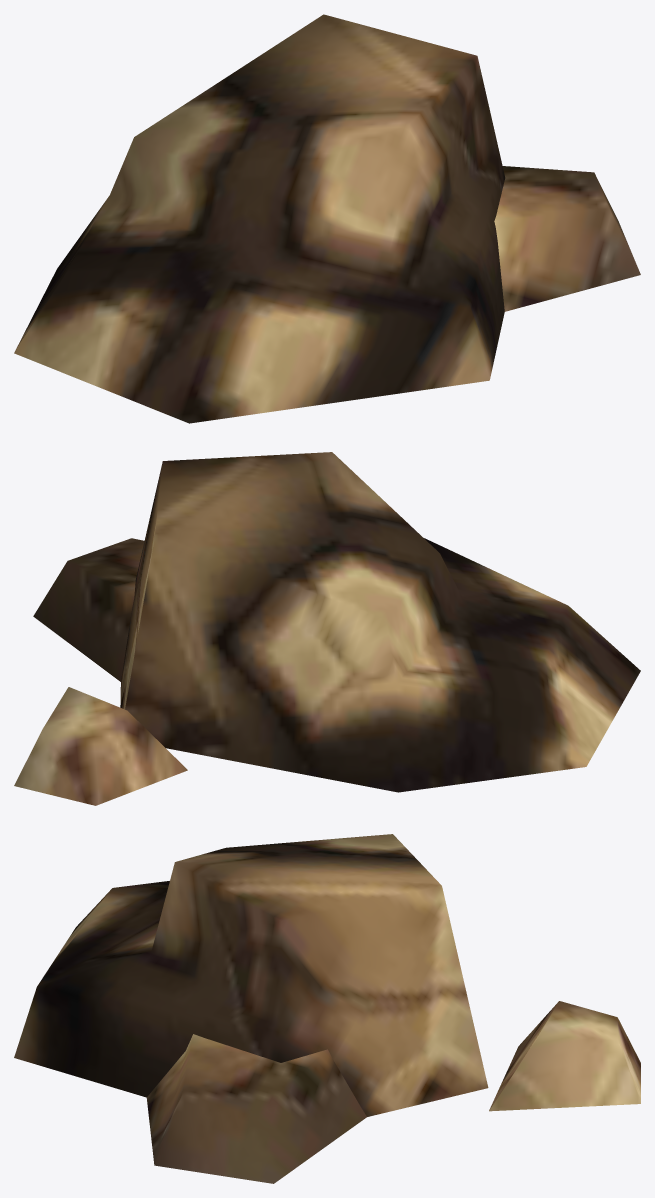
The model's file is dec_red_stone_01_4998.glb.
3 views of the same model, one above another, from view 1: azimuth 30°, elevation 25°; view 2: azimuth 150°, elevation 25°; view 3: azimuth 270°, elevation 25° (orthographic). The views are drawn at different scales.
Parts seen in each view (by area): view 1: red_stone_01_mesh; view 2: red_stone_01_mesh; view 3: red_stone_01_mesh.
Boxes of the visible parts, x1,y1,x2,y2 form: red_stone_01_mesh: [14, 14, 640, 423]; red_stone_01_mesh: [14, 452, 640, 805]; red_stone_01_mesh: [14, 834, 640, 1183].
Size of the model in its own units: 1.56 by 0.4978 by 1.44.
1 material, 1 textured.
